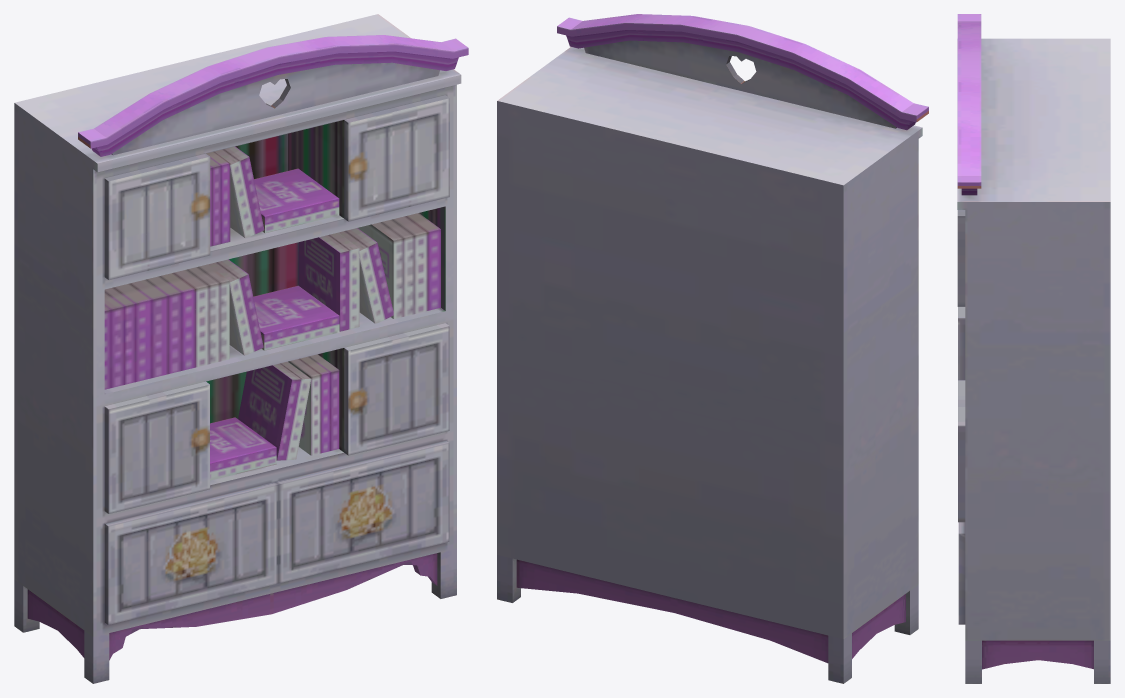
The model's file is furni_0200615_01.FBX.
The picture shows the model from 3 angles, left to right: view 1: azimuth 30°, elevation 25°; view 2: azimuth 150°, elevation 25°; view 3: azimuth 270°, elevation 25°; orthographic projection. The views are drawn at different scales.
Parts seen in each view (by area): view 1: furni_0200615_01; view 2: furni_0200615_01; view 3: furni_0200615_01.
Part boxes in pixels (x1,y1,x2,y2): furni_0200615_01: (14, 14, 468, 683); furni_0200615_01: (497, 14, 928, 683); furni_0200615_01: (957, 14, 1110, 683).
Size of the model in its own units: 166 by 246 by 63.29.
Materials: 1 (1 with a texture image).
